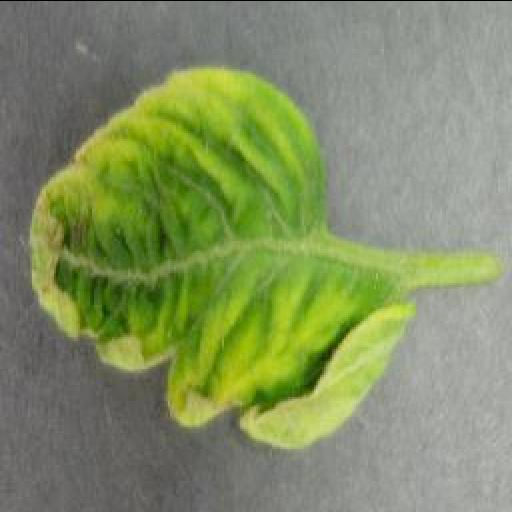disease_tomato: (26, 64, 412, 446)
